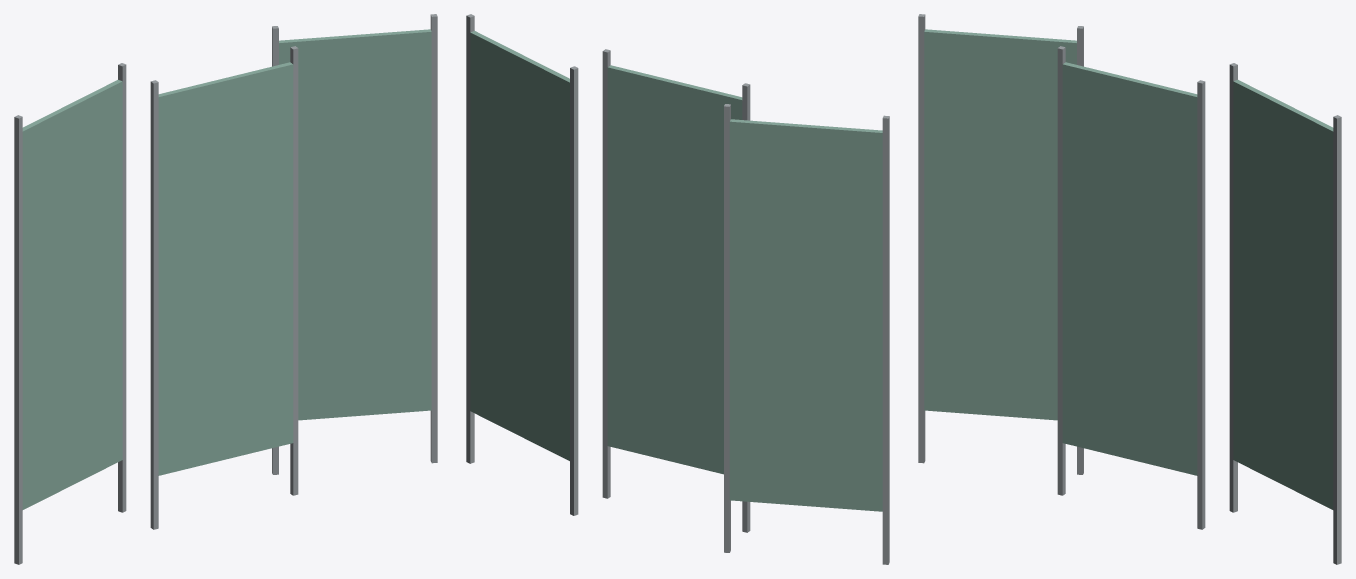
File: folding_screen.glb
The picture shows the model from 3 angles, left to right: view 1: azimuth 30°, elevation 25°; view 2: azimuth 150°, elevation 25°; view 3: azimuth 330°, elevation 25°; orthographic projection.
Visible parts, largest first — view 1: FoldingScreen; view 2: FoldingScreen; view 3: FoldingScreen.
Part boxes in pixels (box(x1,y1,x2,y2)): FoldingScreen: box(14, 14, 437, 564); FoldingScreen: box(466, 14, 889, 564); FoldingScreen: box(918, 14, 1341, 564).
Bounding box in the file's own units: 1.63 × 1.65 × 0.2103.
